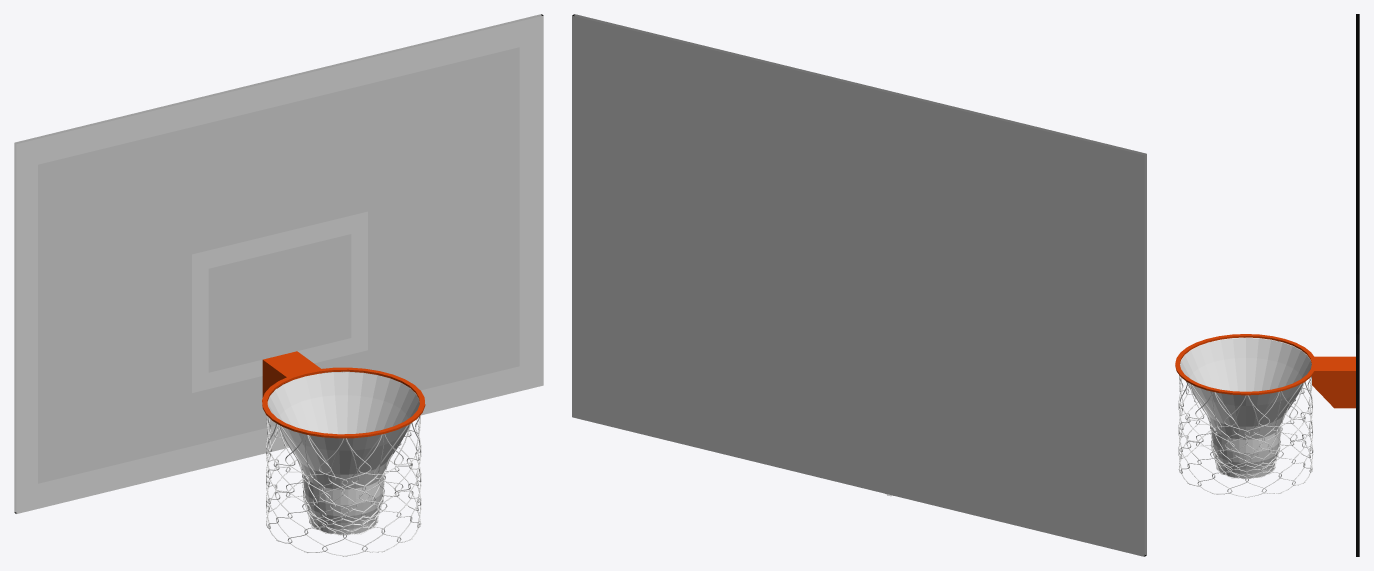
Rendered from BasketballHoop.fbx.
The picture shows the model from 3 angles, left to right: view 1: azimuth 30°, elevation 25°; view 2: azimuth 150°, elevation 25°; view 3: azimuth 270°, elevation 25°; orthographic projection. The views are drawn at different scales.
Visible parts, largest first — view 1: Basketball Hoop, Cylinder, BezierCurve.001, BezierCurve; view 2: Basketball Hoop; view 3: Cylinder, Basketball Hoop, BezierCurve.001, BezierCurve.
Boxes of the visible parts, x1=… form: Basketball Hoop: x1=14, y1=14, x2=543, y2=513; Cylinder: x1=267, y1=372, x2=419, y2=534; BezierCurve.001: x1=266, y1=371, x2=421, y2=556; BezierCurve: x1=275, y1=372, x2=411, y2=535; Basketball Hoop: x1=572, y1=14, x2=1146, y2=556; Cylinder: x1=1180, y1=338, x2=1311, y2=478; Basketball Hoop: x1=1175, y1=14, x2=1359, y2=556; BezierCurve.001: x1=1178, y1=337, x2=1313, y2=497; BezierCurve: x1=1186, y1=337, x2=1304, y2=479.
Size of the model in its own units: 182 by 131 by 63.82.
